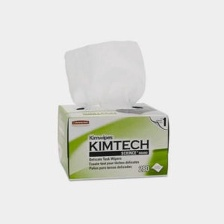book: (48, 95, 174, 186)
tissue: (59, 33, 150, 114)
